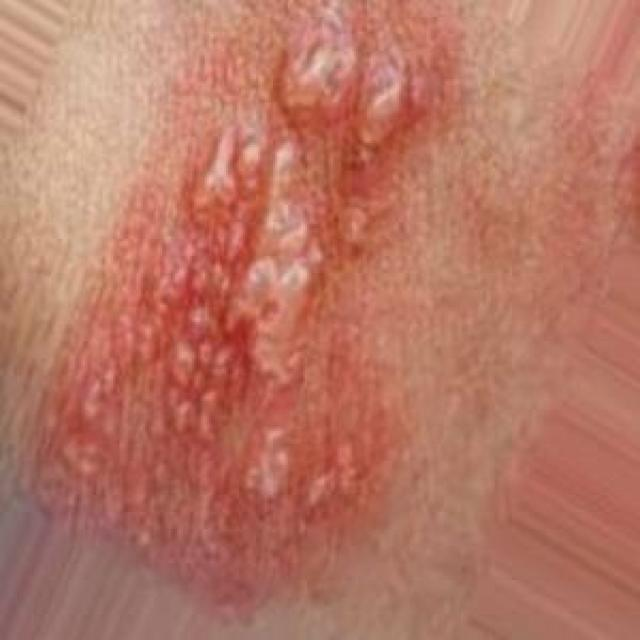Shingles: (70, 41, 432, 524)
